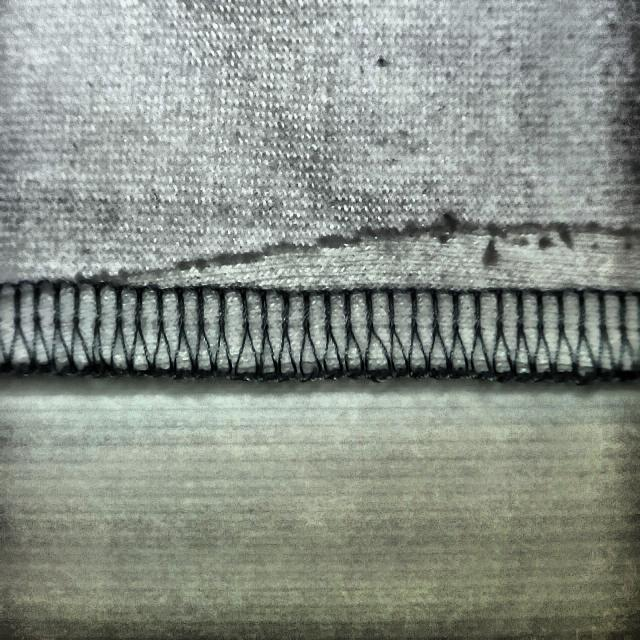gray stitch: (108, 199, 640, 385)
